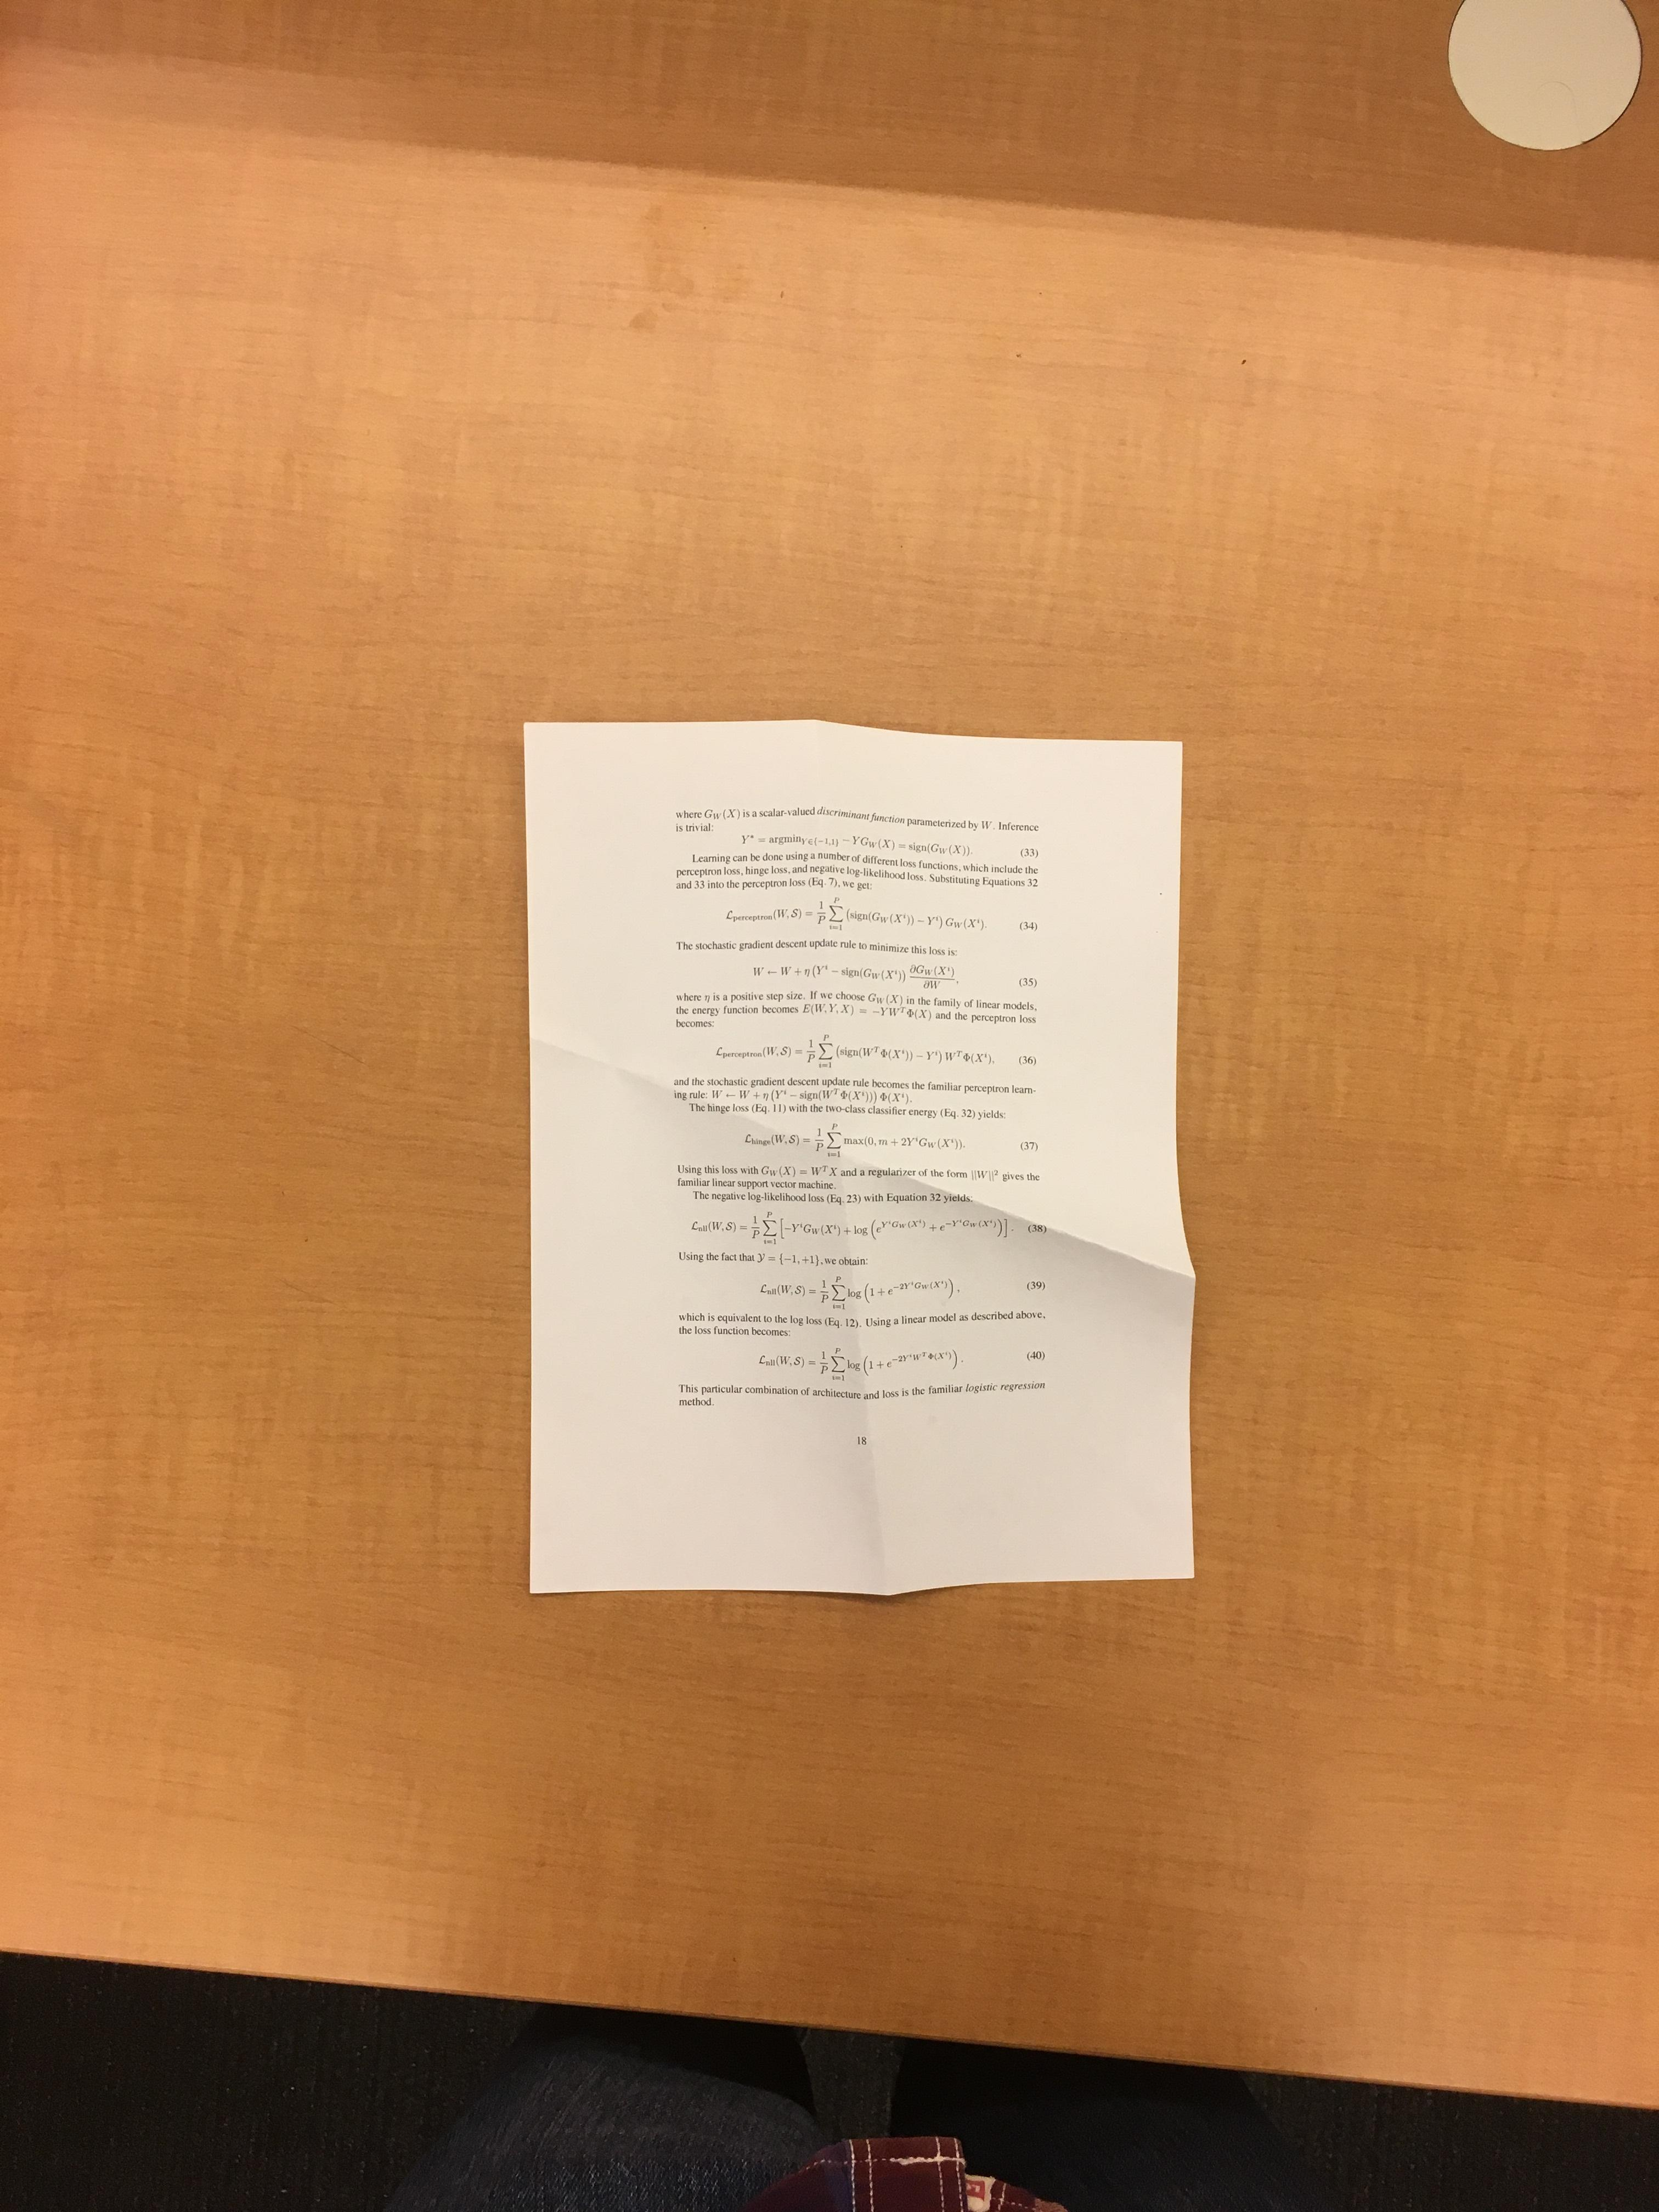paper: (351, 601, 1357, 1764)
